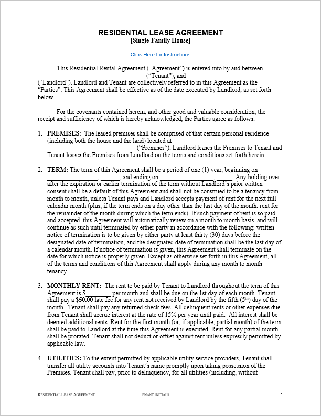textline: (34, 69, 144, 80), (186, 69, 283, 81), (45, 142, 136, 153), (173, 138, 275, 147), (157, 172, 235, 182), (45, 172, 97, 183), (97, 171, 121, 183), (85, 287, 110, 298)
